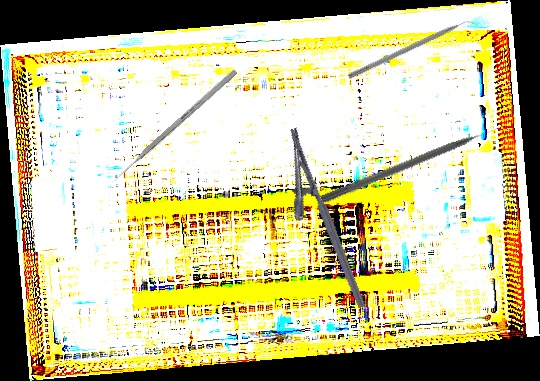Chopper: (347, 15, 480, 86)
Needle Holder: (264, 127, 367, 318)
Pusher: (319, 123, 503, 206), (109, 68, 238, 186)
